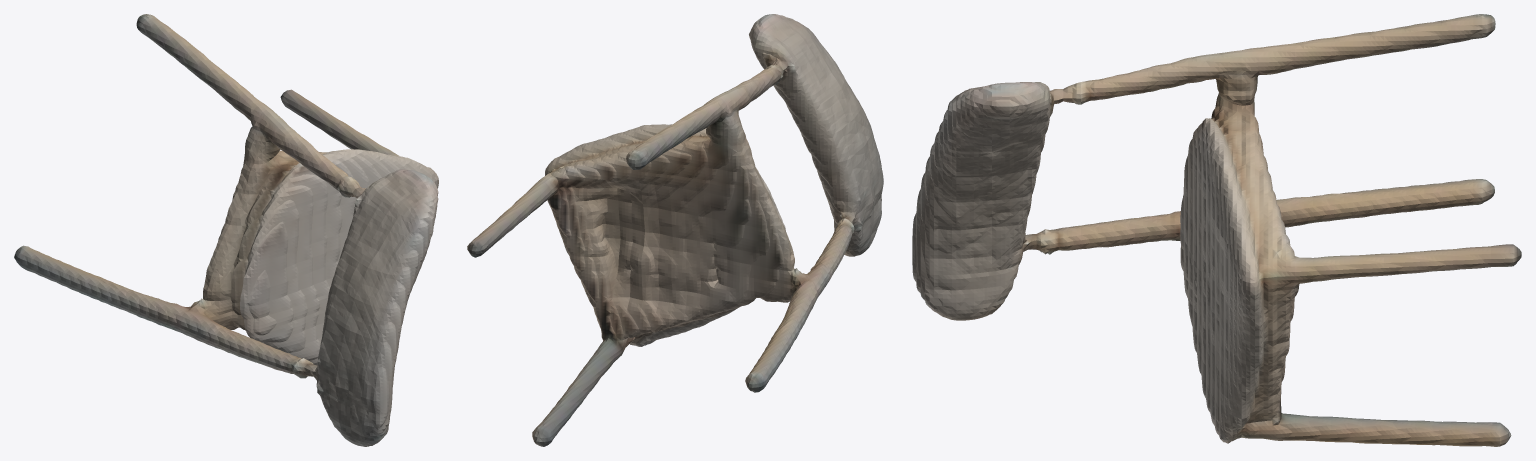
The model's file is 558736__triposr_single_N1_a_2025-08-17_v1_hd71d2262.glb.
The picture shows the model from 3 angles, left to right: view 1: azimuth 30°, elevation 25°; view 2: azimuth 150°, elevation 25°; view 3: azimuth 270°, elevation 25°; orthographic projection. The views are drawn at different scales.
Visible parts, largest first — view 1: world; view 2: world; view 3: world.
Part boxes in pixels (box(x1,y1,x2,y2)): world: box(14, 14, 438, 446); world: box(467, 14, 883, 446); world: box(912, 14, 1521, 446).
Size of the model in its own units: 0.6693 by 0.6389 by 0.9297.
